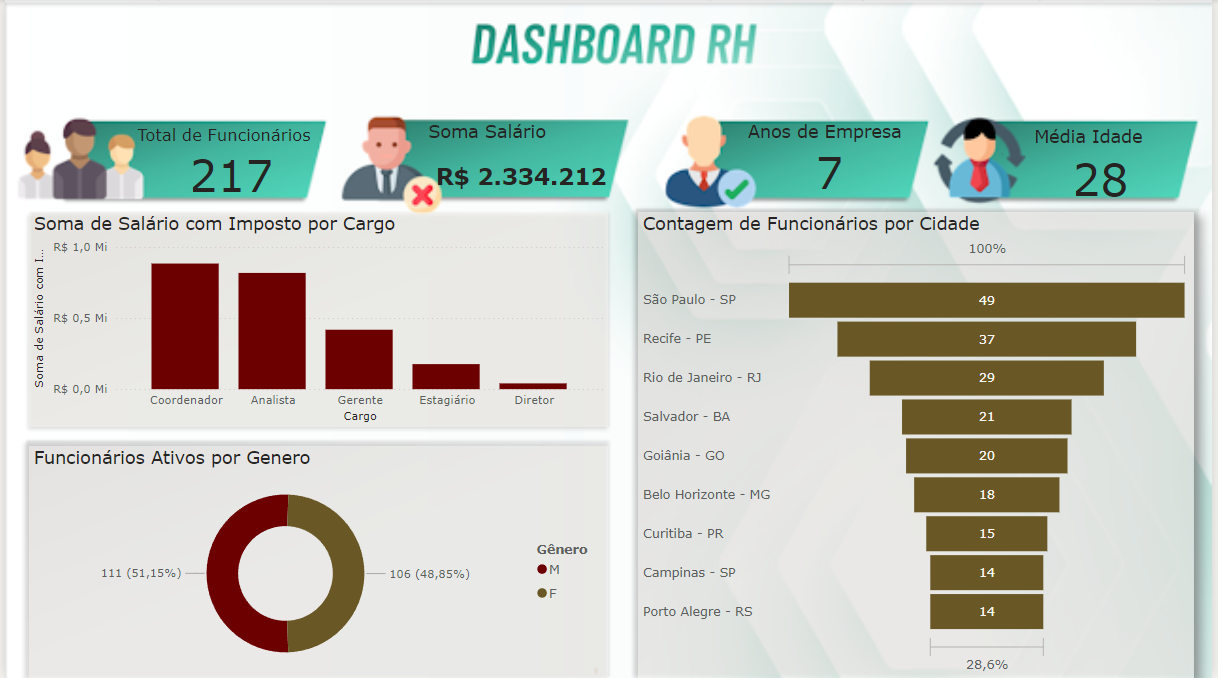

Layout of this report page (visuals, bound fields, positions):
{"tool":"powerbi","page":{"name":"Página 1","canvas":[1280,720],"ordinal":0},"visuals":[{"type":"donutChart","fields":{"Category":["Extração do sistema - Planilha Funcionários Casas Bahia (BaseFuncionarios).Genero"],"Y":["Extração do sistema - Planilha Funcionários Casas Bahia (BaseFuncionarios).Nome Completo"]},"box":[25,473.6,614.3,247],"z":0},{"type":"funnel","fields":{"Category":["Extração do sistema - Planilha Funcionários Casas Bahia (BaseFuncionarios).Cidade"],"Y":["Extração do sistema - Planilha Funcionários Casas Bahia (BaseFuncionarios).Nome Completo"]},"box":[670.5,226.6,589.2,493.9],"z":1000},{"type":"columnChart","fields":{"Y":["Extração do sistema - Planilha Funcionários Casas Bahia (BaseFuncionarios).Salário com Imposto"],"Category":["Extração do sistema - Planilha Funcionários Casas Bahia (BaseFuncionarios).Cargo"]},"box":[25,226.6,614.3,228.2],"z":2000},{"type":"card","title":"Total de Funcionários","fields":{"Values":["Extração do sistema - Planilha Funcionários Casas Bahia (BaseFuncionarios).Nome Completo"]},"box":[134.4,132.9,209.4,81.3],"z":3000},{"type":"card","title":"Média Idade","fields":{"Values":["Extração do sistema - Planilha Funcionários Casas Bahia (BaseFuncionarios).Idade "]},"box":[1086.3,132.9,150,87.5],"z":3001},{"type":"card","title":"Soma Salário","fields":{"Values":["Extração do sistema - Planilha Funcionários Casas Bahia (BaseFuncionarios).Salário com Imposto"]},"box":[443.9,128.2,206.3,96.9],"z":3002},{"type":"card","title":"Anos de Empresa","fields":{"Values":["Extração do sistema - Planilha Funcionários Casas Bahia (BaseFuncionarios).Tempo de Empresa"]},"box":[783.1,128.2,182.9,82.8],"z":3003}]}

Visuals, with their boxes in screenshot pixels (x1, y1, x2, y2), scaled from the page's 1280x720 canvas onto the 1218x678 screenshot:
donutChart - Extração do sistema - Planilha Funcionários Casas Bahia (BaseFuncionarios).Genero x Extração do sistema - Planilha Funcionários Casas Bahia (BaseFuncionarios).Nome Completo: (left=24, top=446, right=608, bottom=677)
funnel - Extração do sistema - Planilha Funcionários Casas Bahia (BaseFuncionarios).Cidade x Extração do sistema - Planilha Funcionários Casas Bahia (BaseFuncionarios).Nome Completo: (left=638, top=213, right=1199, bottom=677)
columnChart - Extração do sistema - Planilha Funcionários Casas Bahia (BaseFuncionarios).Salário com Imposto x Extração do sistema - Planilha Funcionários Casas Bahia (BaseFuncionarios).Cargo: (left=24, top=213, right=608, bottom=428)
"Total de Funcionários" card: (left=128, top=125, right=327, bottom=202)
"Média Idade" card: (left=1034, top=125, right=1176, bottom=208)
"Soma Salário" card: (left=422, top=121, right=619, bottom=212)
"Anos de Empresa" card: (left=745, top=121, right=919, bottom=199)
